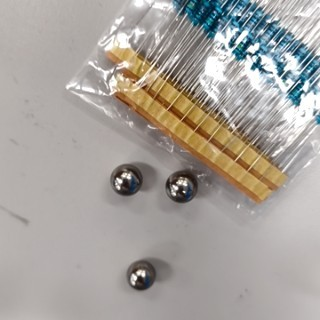ironball: (100, 157, 147, 205), (153, 169, 199, 213), (114, 258, 164, 296)
